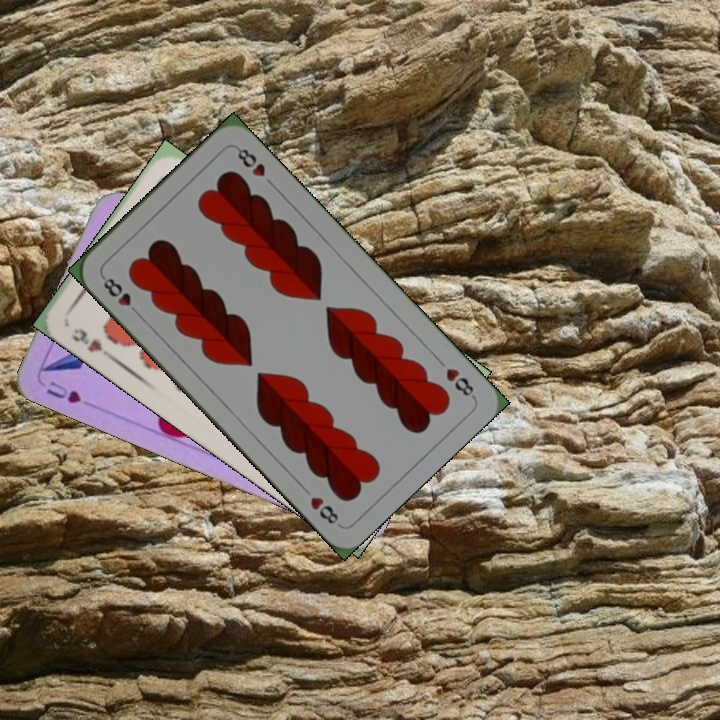H8: (97, 271, 143, 319), (432, 353, 477, 400)
H9: (67, 324, 114, 361)
HU: (42, 377, 84, 407)
